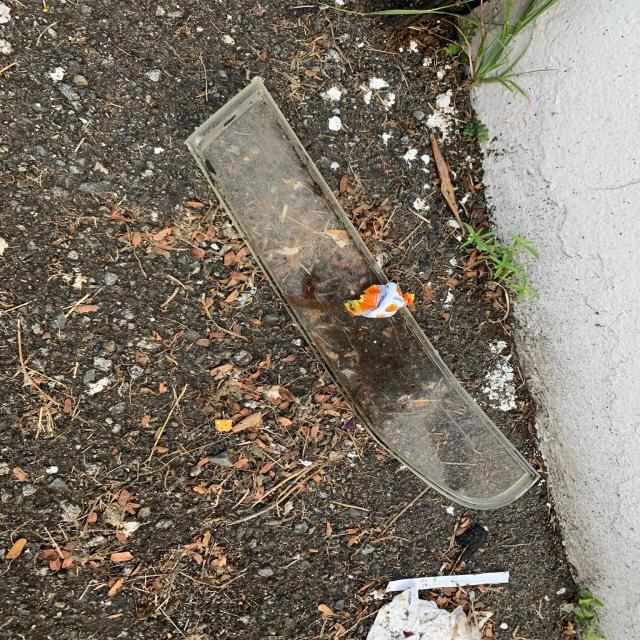litter: (181, 75, 543, 509), (364, 572, 512, 639), (342, 282, 415, 318)
